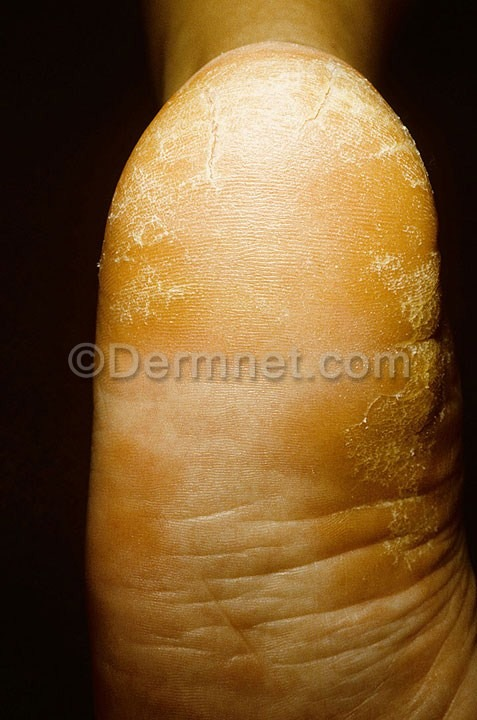Eczema: (356, 234, 477, 569), (111, 162, 234, 331)
